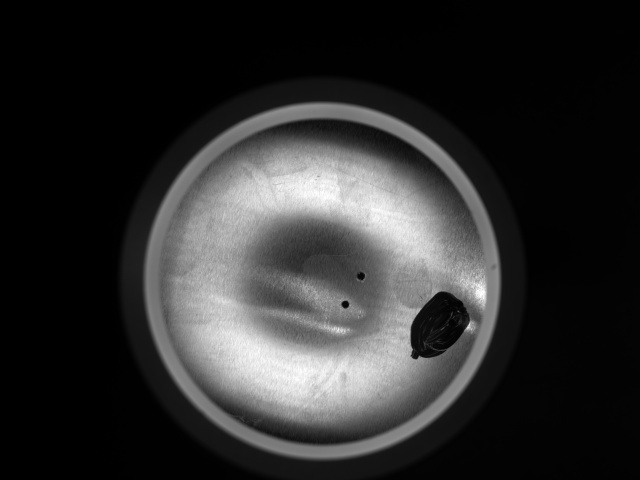zang_wu: (408, 289, 471, 363)
zhen_kong: (354, 269, 369, 283), (338, 298, 353, 311)
